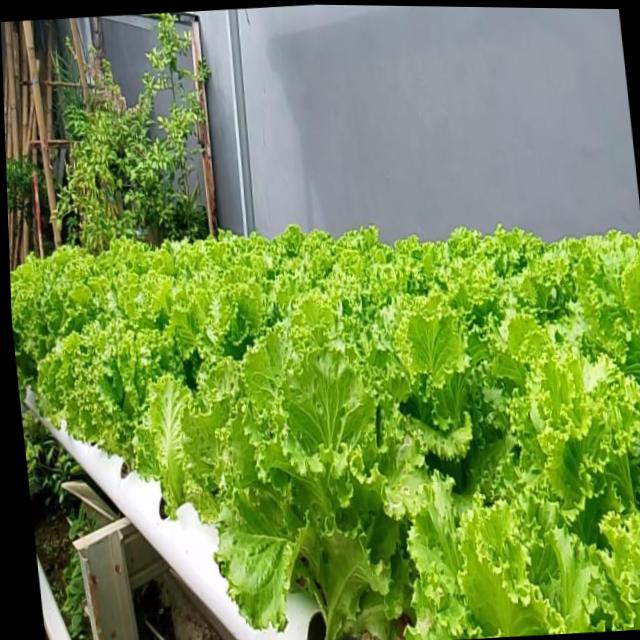Mature: (12, 206, 640, 640), (198, 331, 394, 628), (20, 273, 168, 484)
